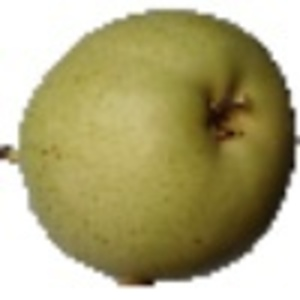pera: (1, 6, 300, 290)
